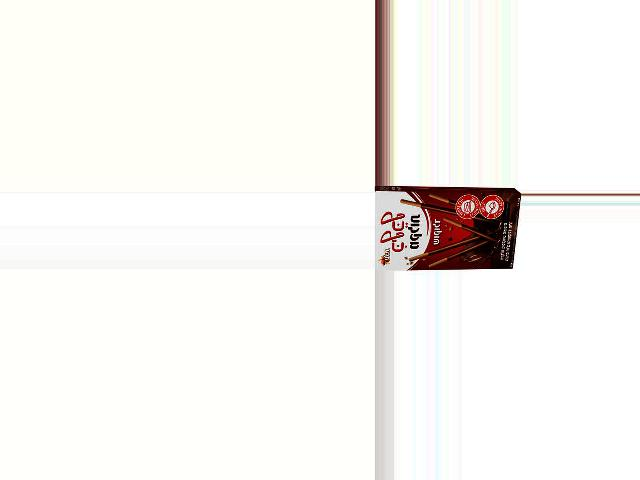chocolate: (375, 187, 511, 271)
